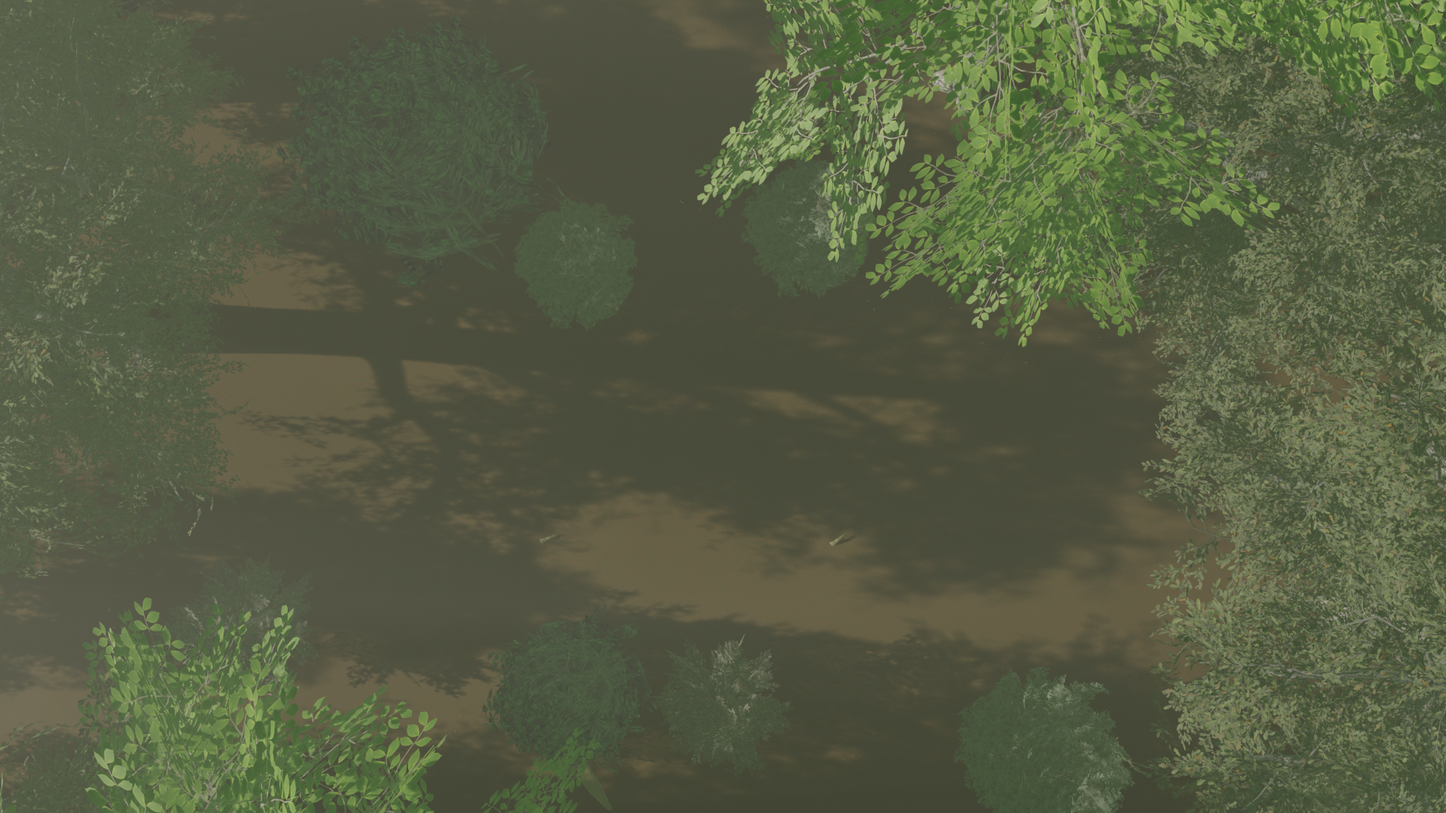pangolin: (568, 733, 626, 813), (1373, 320, 1446, 368), (825, 524, 854, 551), (535, 528, 566, 547)
